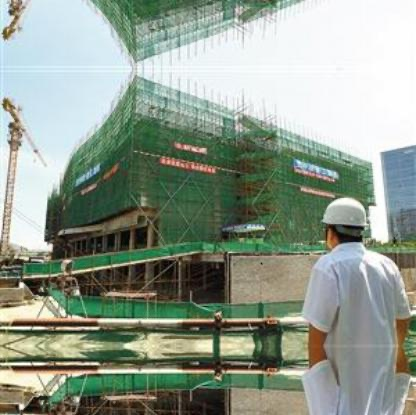Safety Helmet: (315, 193, 381, 259)
